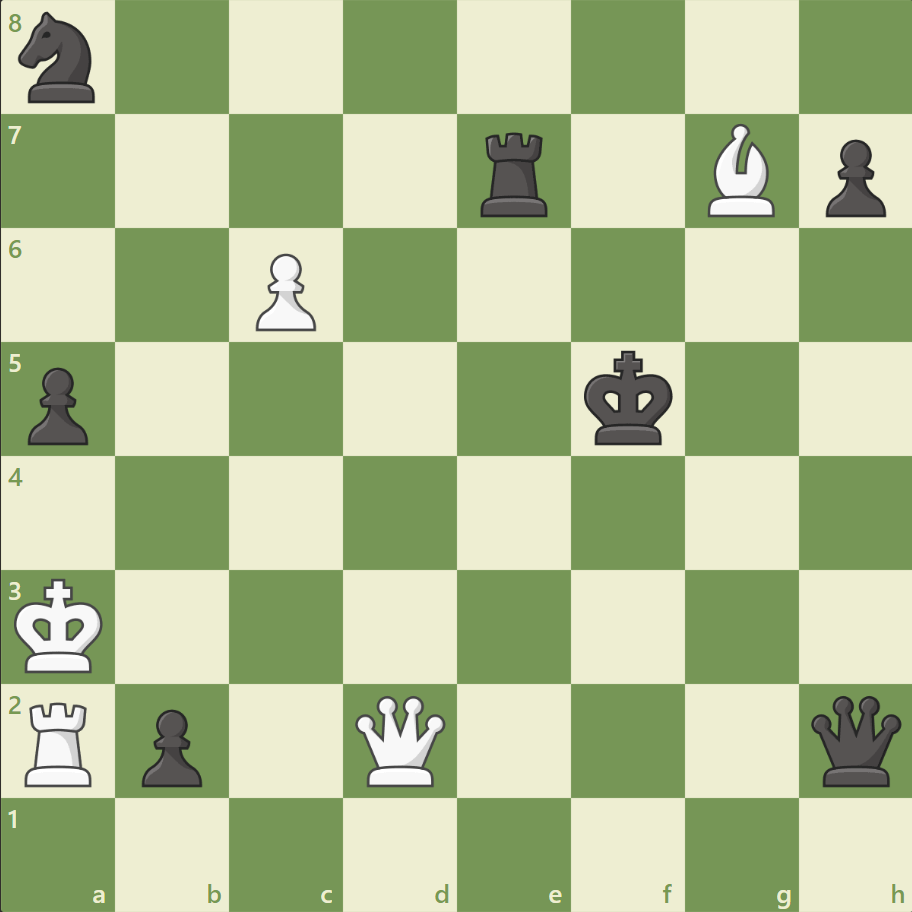B: (698, 120, 782, 222)
K: (11, 571, 111, 679)
P: (247, 246, 322, 337)
Q: (351, 690, 450, 789)
R: (19, 693, 102, 790)
k: (579, 344, 679, 452)
n: (11, 7, 108, 110)
p: (20, 359, 95, 450), (133, 700, 208, 791), (815, 132, 889, 223)
q: (805, 690, 904, 789)
r: (473, 125, 556, 222)
